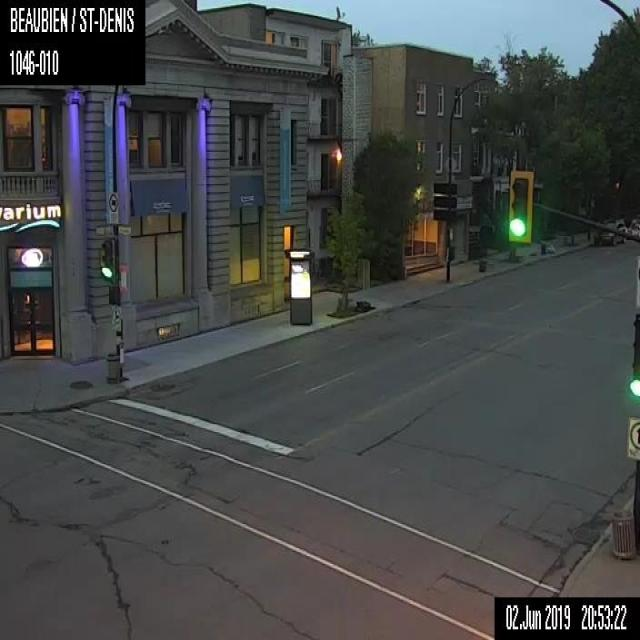vehicle: (593, 216, 626, 246), (626, 212, 639, 241)
